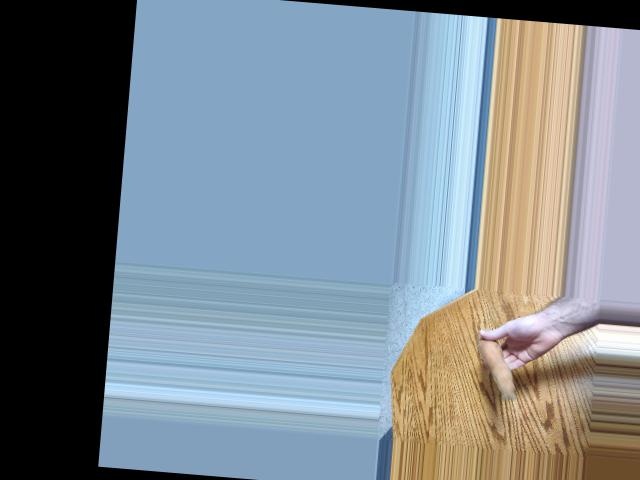sweet_potato: (471, 326, 526, 403)
